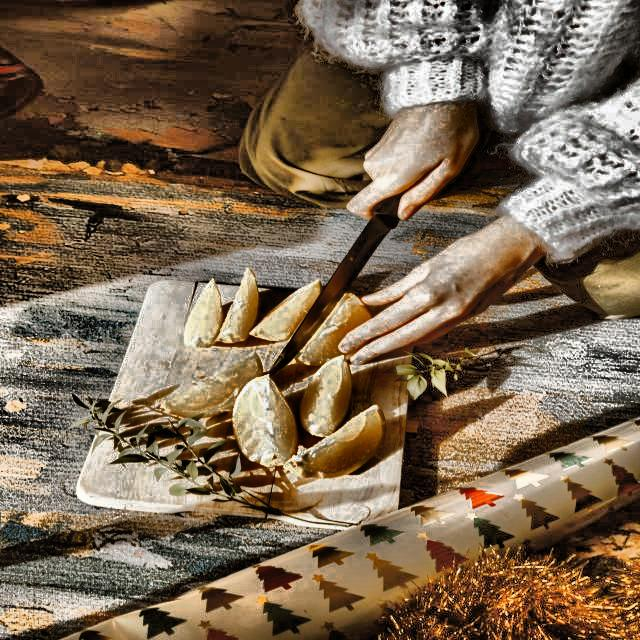knife: (262, 188, 408, 384)
